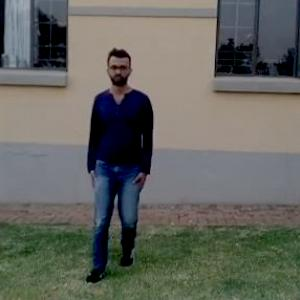follow: (89, 49, 154, 271)
